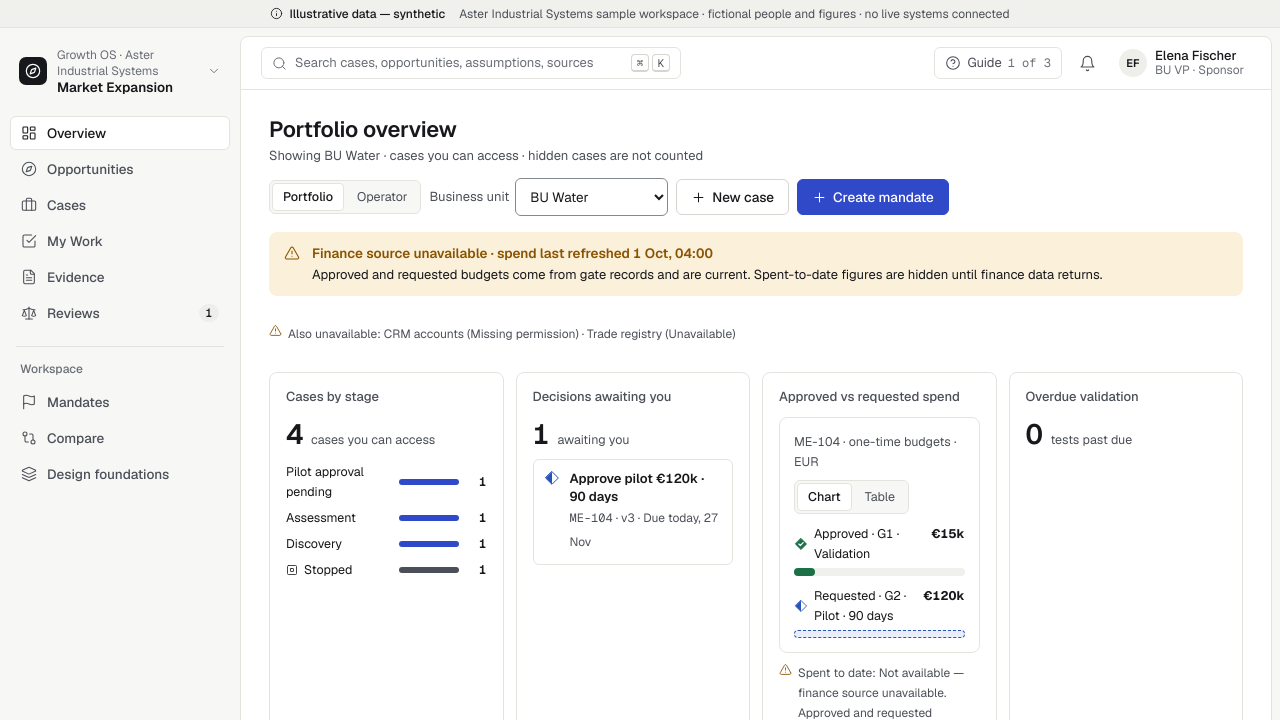
Test: Getting started guide › shows the sponsor’s steps and a Next card from the real inbox: “You have a G2 decision waiting”
This screenshot has width=1280, height=720.
Click the button "Guide 1 of 3".
click(998, 63)  # box [934,47,1062,79]
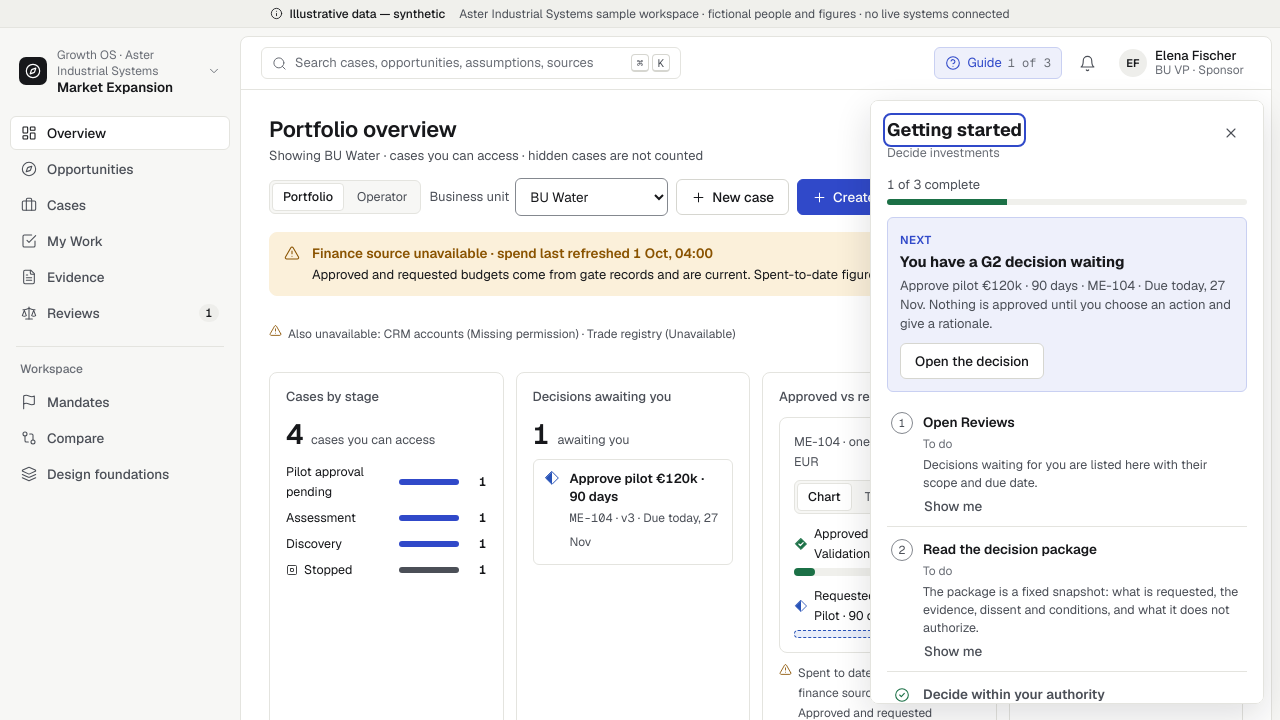
Result: the text "Decide investments" is shown at [887,144,1000,161]
Result: the heading "You have a G2 decision waiting" is shown at [900,252,1124,271]
Result: the text "Approve pilot €120k · 90 days · ME-104" is shown at [900,277,1231,332]
# Escape closes it and focus returns to the Guide button.
Press Escape in the element "Getting started", box [870,100,1264,704]
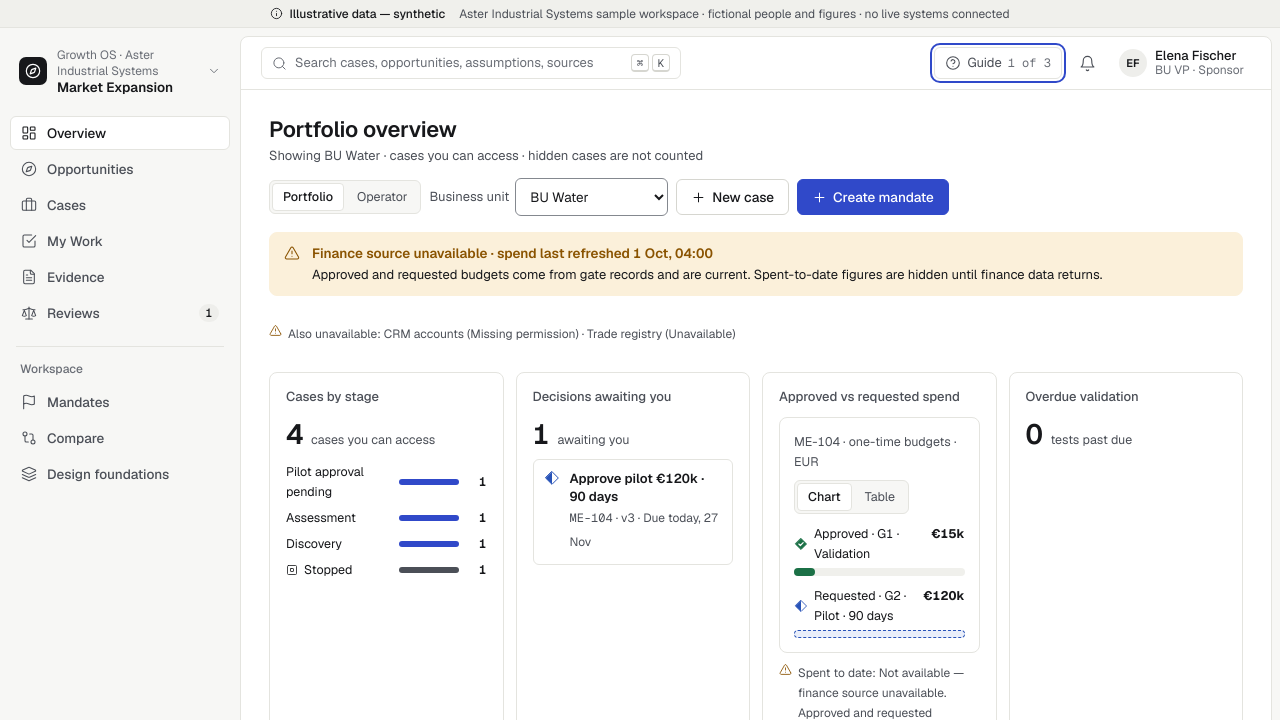
Result: the heading "Getting started" is gone
